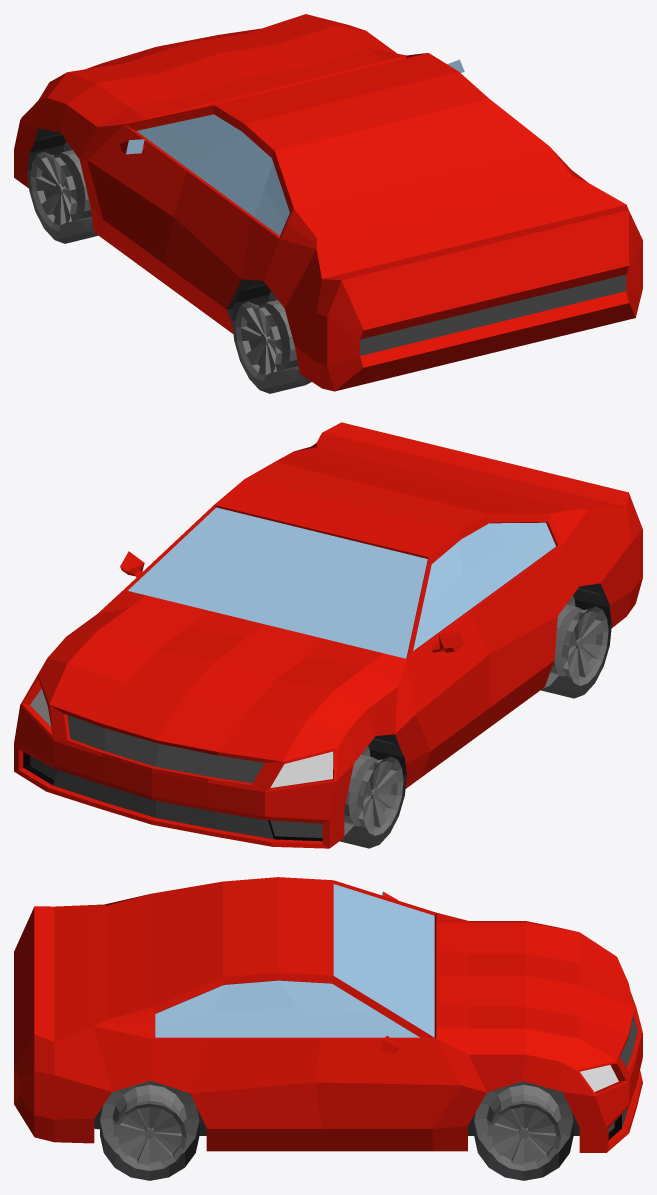
Rendered from red_car.fbx.
3 renders of one model, top to bottom at view 1: azimuth 30°, elevation 25°; view 2: azimuth 150°, elevation 25°; view 3: azimuth 270°, elevation 25°, orthographic. The views are drawn at different scales.
Visible parts, largest first — view 1: Body, RL_Wheel, FL_Wheel; view 2: Body, FL_Wheel, RL_Wheel; view 3: Body, RR_Wheel, FR_Wheel.
Part boxes in pixels (x1,y1,x2,y2): Body: [14, 14, 642, 391]; RL_Wheel: [232, 283, 311, 393]; FL_Wheel: [27, 133, 98, 243]; Body: [14, 422, 642, 848]; FL_Wheel: [340, 738, 406, 848]; RL_Wheel: [541, 588, 611, 698]; Body: [14, 877, 642, 1152]; RR_Wheel: [100, 1080, 199, 1180]; FR_Wheel: [474, 1081, 573, 1180].
Bounding box in the file's own units: 2.52 × 4.43 × 1.43.
